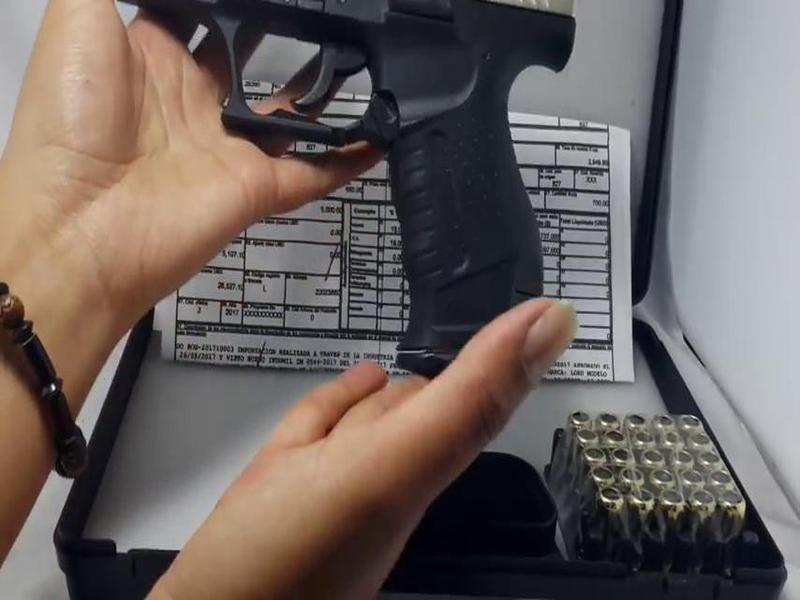Pistola: (63, 1, 625, 387)
